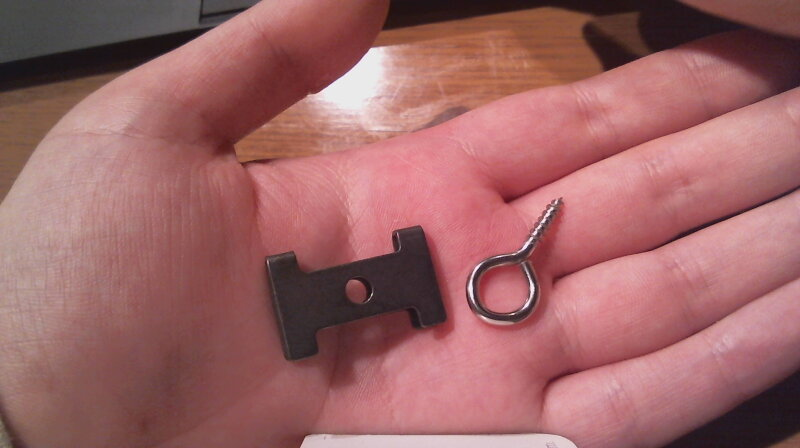O001: (460, 193, 574, 329)
O002: (257, 222, 450, 360)
